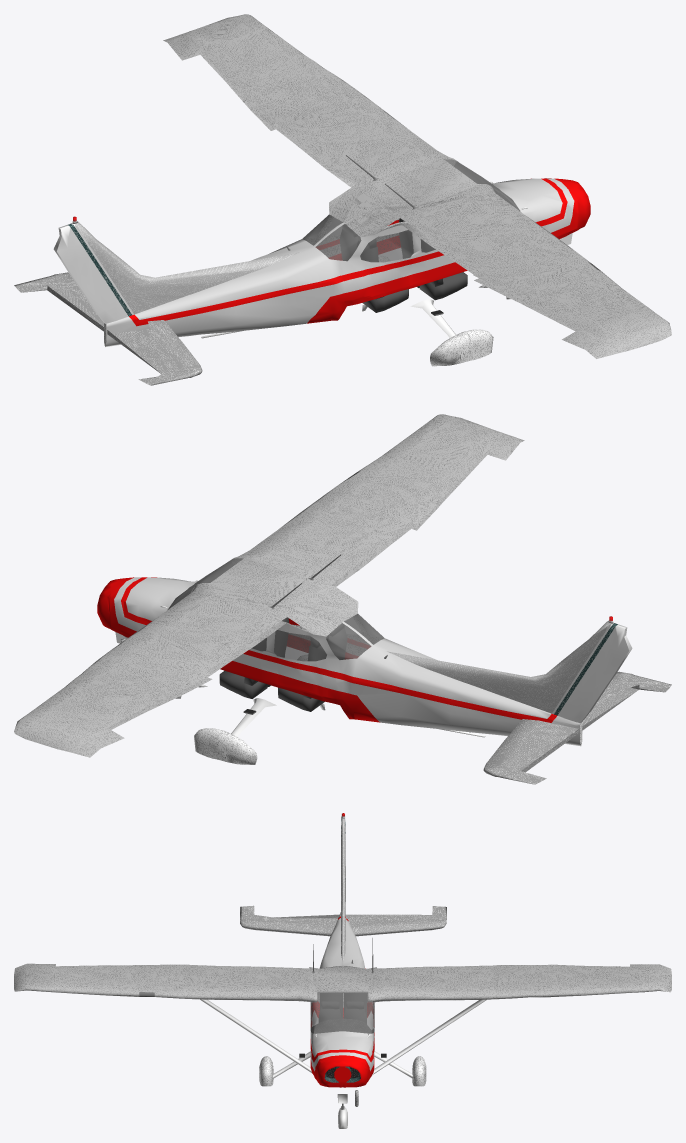
Rendered from body.dae.
The picture shows the model from 3 angles, top to bottom: view 1: azimuth 30°, elevation 25°; view 2: azimuth 150°, elevation 25°; view 3: azimuth 270°, elevation 25°; orthographic projection. The views are drawn at different scales.
Visible parts, largest first — view 1: group_9 (×5), group_2 (×2), group_4, Group_15, group_3, group_15, group_10, group_6; view 2: group_9 (×5), group_2 (×2), group_3, Group_15, group_4, group_6 (×2), group_17, group_11; view 3: group_9 (×3), group_13, group_3, group_4, ske2A3 (×2), group_2, group_7.
Boxes of the visible parts, bbox=[...] form: group_9 (×5): bbox=[105, 14, 671, 358]; group_2 (×2): bbox=[53, 221, 299, 323]; group_4: bbox=[112, 320, 202, 385]; Group_15: bbox=[430, 329, 493, 366]; group_3: bbox=[14, 272, 103, 331]; group_15: bbox=[360, 230, 413, 262]; group_10: bbox=[315, 224, 361, 261]; group_6: bbox=[419, 272, 467, 300]; group_9 (×5): bbox=[14, 414, 580, 757]; group_2 (×2): bbox=[387, 621, 632, 722]; group_3: bbox=[483, 719, 578, 784]; Group_15: bbox=[194, 728, 257, 764]; group_4: bbox=[582, 671, 671, 725]; group_6 (×2): bbox=[219, 670, 324, 711]; group_17: bbox=[274, 630, 326, 661]; group_11: bbox=[326, 623, 371, 659]; group_9 (×3): bbox=[14, 918, 671, 1087]; group_13: bbox=[310, 991, 374, 1033]; group_3: bbox=[346, 906, 446, 936]; group_4: bbox=[240, 905, 337, 936]; ske2A3 (×2): bbox=[200, 999, 486, 1075]; group_2: bbox=[341, 818, 345, 963]; group_7: bbox=[311, 1019, 373, 1033].
Size of the model in its own units: 300 by 434 by 103.
